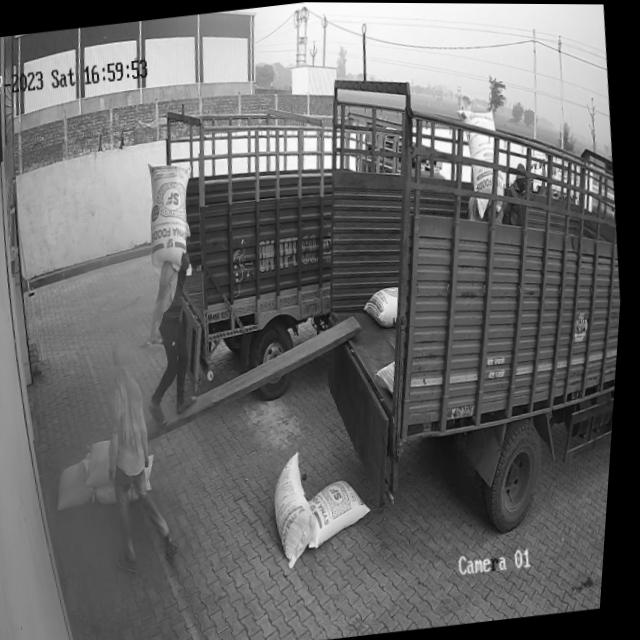sack: (271, 449, 331, 571), (142, 156, 206, 270), (306, 476, 382, 549), (98, 452, 164, 504), (58, 459, 102, 509), (86, 439, 123, 487)
